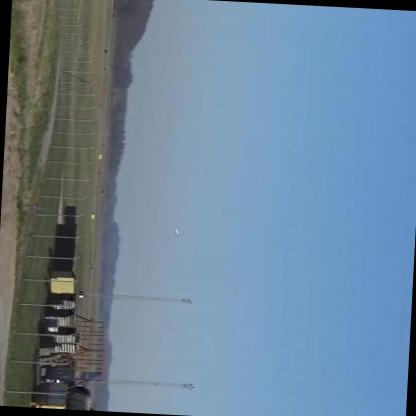plane: (171, 228, 181, 237)
